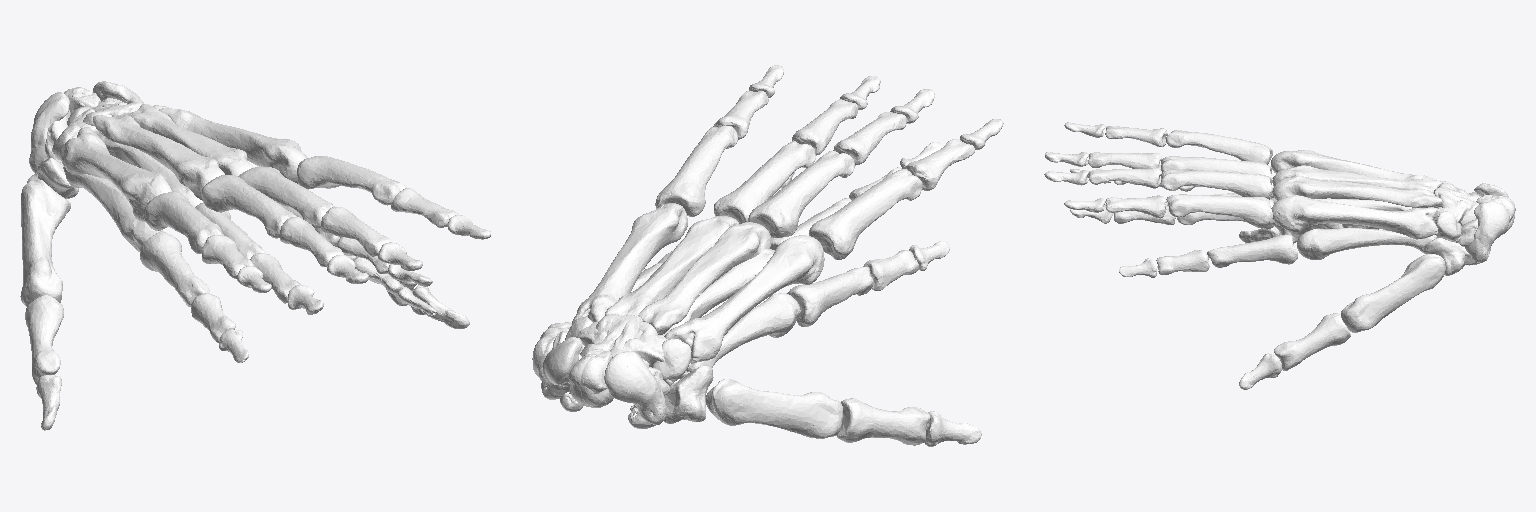
--- What the picture shows (computed from the rendered views, not written in the file) ---
Views: 3 orthographic renders of the robot side by side, from view 1: azimuth 30°, elevation 25°; view 2: azimuth 150°, elevation 25°; view 3: azimuth 270°, elevation 25°.
Model myohand_two_scaled with 87 links and 86 joints (46 revolute, 6 prismatic, 34 fixed), rooted at world, posed all joints at 0.
Visible links, largest first — view 1: firstmc_left, secondmc_left, thirdmc_left, secondmc, proxph2, proxph3_left, thirdmc, proxph2_left, proxph5, proximal_thumb_left, proxph3, fifthmc (+21 smaller); view 2: secondmc_left, firstmc_left, secondmc, thirdmc_left, proxph2_left, proxph3_left, thirdmc, proxph3, proxph2, proximal_thumb_left, scaphoid_left, fifthmc (+23 smaller); view 3: secondmc, firstmc, thirdmc, fifthmc_left, proxph2, proxph3, proximal_thumb, proxph5_left, secondmc_left, proxph2_left, thirdmc_left, scaphoid (+12 smaller).
Link boxes in pixels (bbox=[...]): firstmc_left: bbox=[20, 179, 70, 306]; secondmc_left: bbox=[60, 127, 171, 221]; thirdmc_left: bbox=[93, 115, 224, 200]; secondmc: bbox=[159, 108, 306, 183]; proxph2: bbox=[297, 156, 406, 205]; proxph3_left: bbox=[202, 175, 296, 238]; thirdmc: bbox=[128, 104, 253, 175]; proxph2_left: bbox=[143, 191, 223, 253]; proxph5: bbox=[140, 231, 209, 306]; proximal_thumb_left: bbox=[25, 295, 63, 384]; proxph3: bbox=[238, 166, 334, 228]; fifthmc: bbox=[63, 167, 163, 251]; secondmc_left: bbox=[664, 235, 824, 363]; firstmc_left: bbox=[706, 379, 842, 438]; secondmc: bbox=[572, 203, 687, 323]; thirdmc_left: bbox=[638, 222, 770, 334]; proxph2_left: bbox=[809, 169, 921, 259]; proxph3_left: bbox=[748, 151, 854, 237]; thirdmc: bbox=[605, 216, 739, 315]; proxph3: bbox=[714, 141, 815, 223]; proxph2: bbox=[655, 126, 737, 216]; proximal_thumb_left: bbox=[836, 398, 929, 445]; scaphoid_left: bbox=[604, 351, 665, 424]; fifthmc: bbox=[679, 293, 800, 378]; secondmc: bbox=[1271, 195, 1440, 239]; firstmc: bbox=[1341, 254, 1445, 332]; thirdmc: bbox=[1272, 176, 1441, 207]; fifthmc_left: bbox=[1297, 228, 1436, 259]; proxph2: bbox=[1166, 194, 1272, 227]; proxph3: bbox=[1161, 170, 1272, 199]; proximal_thumb: bbox=[1274, 313, 1350, 370]; proxph5_left: bbox=[1207, 234, 1297, 267]; secondmc_left: bbox=[1271, 150, 1434, 179]; proxph2_left: bbox=[1166, 130, 1272, 164]; thirdmc_left: bbox=[1272, 165, 1441, 193]; scaphoid: bbox=[1465, 201, 1509, 262].
Bounding box of the posed robot: 0.1487 × 0.1952 × 0.0707 m (x, y, z).
Meshes: 54 distinct files referenced, 54 mesh visuals loaded (54 binary STL).

The robot description file, URDF, robot "myohand_two_scaled":
<?xml version="1.0" ?>
<robot name="myohand_two_scaled">
   <link name="world" />

   <joint type="prismatic" name="translate_x_joint">
      <parent link="world" />
      <child link="joint_tx_link" />
      <origin xyz="0.0 0.0 0.0" rpy="0 0 0" />
      <axis xyz="1 0 0" />
      <limit effort="20.0" lower="-10.0" upper="10.0" velocity="5.0" />
   </joint>

   <joint type="prismatic" name="translate_y_joint">
      <parent link="joint_tx_link" />
      <child link="joint_ty_link" />
      <origin xyz="0.0 0.0 0.0" rpy="0 0 0" />
      <axis xyz="0 1 0" />
      <limit effort="20.0" lower="-10.0" upper="10.0" velocity="5.0" />
   </joint>

   <joint type="prismatic" name="translate_z_joint">
      <parent link="joint_ty_link" />
      <child link="joint_tz_link" />
      <origin xyz="0.0 0.0 0.0" rpy="0 0 0" />
      <axis xyz="0 0 1" />
      <limit effort="20.0" lower="-10.0" upper="10.0" velocity="5.0" />
   </joint>

   
   <joint type="revolute" name="rotate_x_joint">
      <parent link="joint_tz_link" />
      <child link="joint_rx_link" />
      <origin xyz="0.0 0.0 0.0" rpy="0 0 0" />
      <axis xyz="1 0 0" />
      <limit effort="100" lower="-3.141593" upper="3.141593" velocity="100" />
   </joint>

   <joint type="revolute" name="rotate_y_joint">
      <parent link="joint_rx_link" />
      <child link="joint_ry_link" />
      <origin xyz="0.0 0.0 0.0" rpy="0 0 0" />
      <axis xyz="0 1 0" />
      <limit effort="100" lower="-3.141593" upper="3.141593" velocity="100" />
   </joint>

   <joint type="revolute" name="rotate_z_joint">
      <parent link="joint_ry_link" />
      <child link="joint_rz_link" />
      <origin xyz="0.0 0.0 0.0" rpy="0 0 0" />
      <axis xyz="0 0 1" />
      <limit effort="100" lower="-3.141593" upper="3.141593" velocity="100" />
   </joint>

   <link name="joint_tx_link" />
   <link name="joint_ty_link" />
   <link name="joint_tz_link" />
   <link name="joint_rx_link" />
   <link name="joint_ry_link" />
   <link name="joint_rz_link" />

   <joint type="fixed" name="wrist_fixed">
      <parent link="joint_rz_link" />
      <child link="lunate" />
      <origin xyz="0.0 0.0 0.0" rpy="0 0 0" />
   </joint>
   <link name="lunate">
      <inertial>
         <origin xyz="0 0 0" rpy="0 0 0 " />
         <mass value="0.0012000263535597198" />
         <inertia ixx="0.0001" iyy="0.0001" izz="0.0001" ixy="0" ixz="0" iyz="0" />
      </inertial>
      <visual name="lunate">
         <origin xyz="0.0 0.0 0.0" rpy="0 0 0" />
         <geometry>
            <mesh filename="package://myohand_description/meshes/lunate.stl" scale="1.0912156403965485 1.0912156403965485 1.0912156403965485" />
         </geometry>
         <material name="white" />
      </visual>
   </link>
   <link name="scaphoid">
      <inertial>
         <origin xyz="0.0 0.0 0.0" rpy="0.0 0.0 0.0" />
         <mass value="0.02" />
         <inertia ixx="0.0001" iyy="0.0001" izz="0.0001" ixy="0" ixz="0" iyz="0" />
      </inertial>
      <visual name="scaphoid">
         <origin xyz="-2.6012832737077287e-05 -9.841030817061655e-06 4.18360878785008e-05" rpy="-0.5692290431693718 -0.33878345041747715 0.21369142489696064" />
         <geometry>
            <mesh filename="package://myohand_description/meshes/scaphoid.stl" scale="1.0912156403965485 1.0912156403965485 1.0912156403965485" />
         </geometry>
         <material name="white" />
      </visual>
   </link>
   <joint type="fixed" name="lunate2scaphoid_fixed">
      <parent link="lunate" />
      <child link="scaphoid" />
      <origin xyz="0.013471057080695391 -0.0048711866187301925 -0.0013683844130572718" rpy="0.0 0.0 0.0" />
   </joint>
   <link name="pisiform">
      <inertial>
         <origin xyz="0.0 0.0 0.0" rpy="0.0 0.0 0.0" />
         <mass value="0.02" />
         <inertia ixx="0.0001" iyy="0.0001" izz="0.0001" ixy="0" ixz="0" iyz="0" />
      </inertial>
      <visual name="pisiform">
         <origin xyz="0.0019402791022578886 -0.000990158516763607 -7.846043753356097e-05" rpy="1.2462055088005255 0.49559439583995424 -0.34929645069987836" />
         <geometry>
            <mesh filename="package://myohand_description/meshes/pisiform.stl" scale="1.0912156403965485 1.0912156403965485 1.0912156403965485" />
         </geometry>
         <material name="white" />
      </visual>
   </link>
   <joint type="fixed" name="lunate2pisiform_fixed">
      <parent link="lunate" />
      <child link="pisiform" />
      <origin xyz="-0.014609194993628992 -0.010787757820960281 -0.011559247278720639" rpy="0.0 0.0 0.0" />
   </joint>
   <link name="triquetrum">
      <inertial>
         <origin xyz="0.0 0.0 0.0" rpy="0.0 0.0 0.0" />
         <mass value="0.02" />
         <inertia ixx="0.0001" iyy="0.0001" izz="0.0001" ixy="0" ixz="0" iyz="0" />
      </inertial>
      <visual name="triquetrum">
         <origin xyz="6.471771705712068e-07 -1.2249553131735085e-06 -3.7030720965944225e-06" rpy="1.9269139677822995 -0.29745876180457564 -0.5516387254770375" />
         <geometry>
            <mesh filename="package://myohand_description/meshes/triquetrum.stl" scale="1.0912156403965485 1.0912156403965485 1.0912156403965485" />
         </geometry>
         <material name="white" />
      </visual>
   </link>
   <joint type="fixed" name="lunate2triquetrum_fixed">
      <parent link="lunate" />
      <child link="triquetrum" />
      <origin xyz="-0.011767669466036381 -0.008183026087333716 -0.001406576960471151" rpy="0.0 0.0 0.0" />
   </joint>
   <link name="capitate">
      <inertial>
         <origin xyz="2.4997529376086936e-06 -4.319736123192584e-06 1.3404175140860993e-06" rpy="1.2103081004613072 -0.2920747955988763 -0.020398215496376104" />
         <mass value="0.001912230829037991" />
         <inertia ixx="0.0001" iyy="0.0001" izz="0.0001" ixy="0" ixz="0" iyz="0" />
      </inertial>
      <visual name="capitate">
         <origin xyz="2.727769502645824e-06 -4.713763620013699e-06 1.4626845560322125e-06" rpy="1.2103081004613072 -0.29207479559887606 -0.020398215496375882" />
         <geometry>
            <mesh filename="package://myohand_description/meshes/capitate.stl" scale="1.0912156403965485 1.0912156403965485 1.0912156403965485" />
         </geometry>
         <material name="white" />
      </visual>
   </link>
   <joint type="fixed" name="lunate2capitate_fixed">
      <parent link="lunate" />
      <child link="capitate" />
      <origin xyz="0.004356132836463022 -0.016427160250529642 0.0025392587952027686" rpy="0.0 0.0 0.0" />
   </joint>
   <link name="trapezium">
      <inertial>
         <origin xyz="0.0 0.0 0.0" rpy="0.0 0.0 0.0" />
         <mass value="0.02" />
         <inertia ixx="0.0001" iyy="0.0001" izz="0.0001" ixy="0" ixz="0" iyz="0" />
      </inertial>
      <visual name="trapezium">
         <origin xyz="-6.197983312852977e-06 1.6671312300062698e-06 -8.008384923814561e-07" rpy="-0.25650854392346234 -0.8000548292338777 2.2561533548010577" />
         <geometry>
            <mesh filename="package://myohand_description/meshes/trapezium.stl" scale="1.0912156403965485 1.0912156403965485 1.0912156403965485" />
         </geometry>
         <material name="white" />
      </visual>
   </link>
   <joint type="fixed" name="capitate2trapezium_fixed">
      <parent link="capitate" />
      <child link="trapezium" />
      <origin xyz="0.016687960788584415 -0.00498576426097183 -0.01124825082120762" rpy="0.0 0.0 0.0" />
   </joint>
   <link name="firstmc">
      <inertial>
         <origin xyz="0.01309968089388166 -0.0068745282609964375 -0.009698928892781572" rpy="-2.1572247499833628 -0.31560297757072453 -1.7510692763715643" />
         <mass value="0.016" />
         <inertia ixx="0.0001" iyy="0.0001" izz="0.0001" ixy="0" ixz="0" iyz="0" />
      </inertial>
      <visual name="1mc">
         <origin xyz="0.015221742517602882 -0.007904877736212118 -0.009576319475505619" rpy="-2.237451597882739 -0.5181491466513541 -1.6277365169800728" />
         <geometry>
            <mesh filename="package://myohand_description/meshes/1mc.stl" scale="1.0912156403965485 1.0912156403965485 1.0912156403965485" />
         </geometry>
         <material name="white" />
      </visual>
   </link>
   <link name="cmc_abduction_dummy">
      <inertial>
         <origin xyz="0.0 0.0 0.0" rpy="-0.7286789533902661 0.04241170412851947 -0.01617642349516324" />
         <mass value="0.001" />
         <inertia ixx="1e-09" iyy="1e-09" izz="1e-09" ixy="0" ixz="0" iyz="0" />
      </inertial>
   </link>
   <joint type="revolute" name="cmc_abduction">
      <parent link="trapezium" />
      <child link="cmc_abduction_dummy" />
      <origin xyz="0.00785675261085515 -0.005892564458141363 -0.0027280391009913713" rpy="0.7286789533902661 -0.042411704128519245 -0.01617642349516324" />
      <axis xyz="0 0 1" />
      <limit lower="-0.5" upper="0.78" effort="100" velocity="100" />
   </joint>
   <joint type="revolute" name="cmc_flexion">
      <parent link="cmc_abduction_dummy" />
      <child link="firstmc" />
      <origin xyz="0.0 0.0 0.0" rpy="-1.7353556432102104 0.24272282231633158 -0.5745472836968706" />
      <axis xyz="0 0 1" />
      <limit lower="-0.78" upper="0.7" effort="100" velocity="100" />
   </joint>
   <link name="proximal_thumb">
      <inertial>
         <origin xyz="0.009175945436263407 -0.017323667062881923 -0.003637662002596822" rpy="2.193467119650854 0.33126827277613535 1.3835402268256396" />
         <mass value="0.0079" />
         <inertia ixx="0.0001" iyy="0.0001" izz="0.0001" ixy="0" ixz="0" iyz="0" />
      </inertial>
      <visual name="thumbprox">
         <origin xyz="0.008919062701548273 -0.01744202712274187 -0.0034244405719334064" rpy="1.751348942319772 -0.12389205032924067 0.43579123948592824" />
         <geometry>
            <mesh filename="package://myohand_description/meshes/thumbprox.stl" scale="1.0912156403965485 1.0912156403965485 1.0912156403965485" />
         </geometry>
         <material name="white" />
      </visual>
   </link>
   <joint type="revolute" name="mp_flexion">
      <parent link="firstmc" />
      <child link="proximal_thumb" />
      <origin xyz="0.029731572672082863 -0.01454820725477413 -0.020878316775212156" rpy="1.2527425101647096 -0.5549106329448805 -0.37755264808441874" />
      <axis xyz="0 0 1" />
      <limit lower="-0.785398" upper="0.698132" effort="100" velocity="100" />
   </joint>
   <link name="distal_thumb">
      <inertial>
         <origin xyz="0.00550527089824059 -0.011306835175704626 0.0008529188979227702" rpy="1.55414831514287 -0.6236827888860802 0.4187783633237224" />
         <mass value="0.003" />
         <inertia ixx="0.0001" iyy="0.0001" izz="0.0001" ixy="0" ixz="0" iyz="0" />
      </inertial>
      <visual name="thumbdist">
         <origin xyz="0.004542850788736533 -0.010651253216962928 0.0010582698770227133" rpy="1.522079931177215 -0.031788312575904865 0.4785542231651294" />
         <geometry>
            <mesh filename="package://myohand_description/meshes/thumbdist.stl" scale="1.0912156403965485 1.0912156403965485 1.0912156403965485" />
         </geometry>
         <material name="white" />
      </visual>
   </link>
   <joint type="revolute" name="ip_flexion">
      <parent link="proximal_thumb" />
      <child link="distal_thumb" />
      <origin xyz="0.014538435925150108 -0.030045423406755038 -0.006287316830942347" rpy="0.2947943417533358 0.032709979997034955 -0.01102290149135593" />
      <axis xyz="0 0 1" />
      <limit lower="-1.309" upper="0.436332" effort="100" velocity="100" />
   </joint>
   <link name="trapezoid">
      <inertial>
         <origin xyz="0.0 0.0 0.0" rpy="0.0 0.0 0.0" />
         <mass value="0.02" />
         <inertia ixx="0.0001" iyy="0.0001" izz="0.0001" ixy="0" ixz="0" iyz="0" />
      </inertial>
      <visual name="trapezoid">
         <origin xyz="1.4991943433975933e-06 -1.611784249149701e-06 2.063852284874042e-07" rpy="0.27598761251820697 0.5558008487263413 0.19209924739735612" />
         <geometry>
            <mesh filename="package://myohand_description/meshes/trapezoid.stl" scale="1.0912156403965485 1.0912156403965485 1.0912156403965485" />
         </geometry>
         <material name="white" />
      </visual>
   </link>
   <joint type="fixed" name="capitate2trapezoid_fixed">
      <parent link="capitate" />
      <child link="trapezoid" />
      <origin xyz="0.009976984600145643 -0.004432517931290779 -0.0026887553379370955" rpy="0.0 0.0 0.0" />
   </joint>
   <link name="hamate">
      <inertial>
         <origin xyz="0.0 0.0 0.0" rpy="0.0 0.0 0.0" />
         <mass value="0.02" />
         <inertia ixx="0.0001" iyy="0.0001" izz="0.0001" ixy="0" ixz="0" iyz="0" />
      </inertial>
      <visual name="hamate">
         <origin xyz="-1.253031262831586e-05 -1.4991055504267509e-06 1.659457460345214e-06" rpy="1.941141541594031 -0.4553846643318562 -0.6664160632978575" />
         <geometry>
            <mesh filename="package://myohand_description/meshes/hamate.stl" scale="1.0912156403965485 1.0912156403965485 1.0912156403965485" />
         </geometry>
         <material name="white" />
      </visual>
   </link>
   <joint type="fixed" name="capitate2hamate_fixed">
      <parent link="capitate" />
      <child link="hamate" />
      <origin xyz="-0.01196954435950974 -0.0027225830227893886 -0.0008184117302974114" rpy="0.0 0.0 0.0" />
   </joint>
   <link name="secondmc">
      <inertial>
         <origin xyz="0.0 0.0 0.0" rpy="0.0 0.0 0.0" />
         <mass value="0.02" />
         <inertia ixx="0.0001" iyy="0.0001" izz="0.0001" ixy="0" ixz="0" iyz="0" />
      </inertial>
      <visual name="2mc">
         <origin xyz="-0.00011438630272261074 0.00013791558509674163 -0.00015259020960722118" rpy="-1.2288611407496322 -1.0576482637579705 2.9957695490133696" />
         <geometry>
            <mesh filename="package://myohand_description/meshes/2mc.stl" scale="1.0912156403965485 1.0912156403965485 1.0912156403965485" />
         </geometry>
         <material name="white" />
      </visual>
   </link>
   <joint type="fixed" name="capitate2secondmc_fixed">
      <parent link="capitate" />
      <child link="secondmc" />
      <origin xyz="0.016024501679223313 -0.04105153239171816 0.005490997102475433" rpy="0.0 0.0 0.0" />
   </joint>
   <link name="proxph2">
      <inertial>
         <origin xyz="0.0 0.0 0.0" rpy="0.0861356540103359 0.05502674551362019 0.0023719461216022628" />
         <mass value="0.01" />
         <inertia ixx="0.0001" iyy="0.0001" izz="0.0001" ixy="0" ixz="0" iyz="0" />
      </inertial>
      <visual name="2proxph">
         <origin xyz="0.004880666929862633 -0.024799814125271602 0.0027061576790072322" rpy="1.3231070703266785 -1.2754347723112274 0.4086444603936795" />
         <geometry>
            <mesh filename="package://myohand_description/meshes/2proxph.stl" scale="1.0912156403965485 1.0912156403965485 1.0912156403965485" />
         </geometry>
         <material name="white" />
      </visual>
   </link>
   <link name="mcp2_flexion_dummy">
      <inertial>
         <origin xyz="0.0 0.0 0.0" rpy="1.570796326794898 -1.4708802086674053 -1.4708802086674067" />
         <mass value="0.001" />
         <inertia ixx="1e-09" iyy="1e-09" izz="1e-09" ixy="0" ixz="0" iyz="0" />
      </inertial>
   </link>
   <joint type="revolute" name="mcp2_flexion">
      <parent link="secondmc" />
      <child link="mcp2_flexion_dummy" />
      <origin xyz="0.0038203459570283166 -0.03081920333171972 0.003950200618235505" rpy="-1.5707963267948977 1.4708802086674053 -1.4708802086674064" />
      <axis xyz="0 0 1" />
      <limit lower="0.0" upper="1.5708" effort="100" velocity="100" />
   </joint>
   <joint type="revolute" name="mcp2_abduction">
      <parent link="mcp2_flexion_dummy" />
      <child link="proxph2" />
      <origin xyz="0.0 0.0 0.0" rpy="1.996706135703522 -1.4588445662369582 -1.9856122470713664" />
      <axis xyz="0 0 1" />
      <limit lower="-0.261799" upper="0.261799" effort="100" velocity="100" />
   </joint>
   <link name="midph2">
      <inertial>
         <origin xyz="0.0 0.0 0.0" rpy="2.673926789498819 -1.347488638214627 -2.561714096685443" />
         <mass value="0.003" />
         <inertia ixx="0.0001" iyy="0.0001" izz="0.0001" ixy="0" ixz="0" iyz="0" />
      </inertial>
      <visual name="2midph">
         <origin xyz="0.0010432335457114643 -0.014944528630233588 0.0002719845766183966" rpy="-1.5630400763369505 -0.0019507371444631438 -3.1305336815452" />
         <geometry>
            <mesh filename="package://myohand_description/meshes/2midph.stl" scale="1.0912156403965485 1.0912156403965485 1.0912156403965485" />
         </geometry>
         <material name="white" />
      </visual>
   </link>
   <joint type="revolute" name="pm2_flexion">
      <parent link="proxph2" />
      <child link="midph2" />
      <origin xyz="0.008515612588301575 -0.04553843896040008 0.0036331389517985863" rpy="-3.1093030719372434 1.3265450030648043 -2.985625911527994" />
      <axis xyz="0 0 1" />
      <limit lower="0.0" upper="1.5708" effort="100" velocity="100" />
   </joint>
   <link name="distph2">
      <inertial>
         <origin xyz="0.0 0.0 0.0" rpy="1.5707963267948983 -1.47079632685829 -1.4707963268582915" />
         <mass value="0.002" />
         <inertia ixx="0.0001" iyy="0.0001" izz="0.0001" ixy="0" ixz="0" iyz="0" />
      </inertial>
      <visual name="2distph">
         <origin xyz="0.0006079583664602333 -0.00932993497329737 0.00023430640444269327" rpy="-1.5239710771919284 -0.03676633885392766 -3.140805196244449" />
         <geometry>
            <mesh filename="package://myohand_description/meshes/2distph.stl" scale="1.0912156403965485 1.0912156403965485 1.0912156403965485" />
         </geometry>
         <material name="white" />
      </visual>
   </link>
   <joint type="revolute" name="md2_flexion">
      <parent link="midph2" />
      <child link="distph2" />
      <origin xyz="0.001323394321107002 -0.027395033344922114 0.0005722576625926559" rpy="0.0221383296958119 -0.1977786936551691 2.5098334244206405e-05" />
      <axis xyz="0 0 1" />
      <limit lower="0.0" upper="1.5708" effort="100" velocity="100" />
   </joint>
   <link name="thirdmc">
      <inertial>
         <origin xyz="0.0 0.0 0.0" rpy="0.0 0.0 0.0" />
         <mass value="0.02" />
         <inertia ixx="0.0001" iyy="0.0001" izz="0.0001" ixy="0" ixz="0" iyz="0" />
      </inertial>
      <visual name="3mc">
         <origin xyz="1.3339891705492994e-05 0.000564020706468723 -0.00026277609802395467" rpy="1.4450266262998412 0.1803584102818272 -0.007490416792627297" />
         <geometry>
            <mesh filename="package://myohand_description/meshes/3mc.stl" scale="1.0912156403965485 1.0912156403965485 1.0912156403965485" />
         </geometry>
         <material name="white" />
      </visual>
   </link>
   <joint type="fixed" name="capitate2thirdmc_fixed">
      <parent link="capitate" />
      <child link="thirdmc" />
      <origin xyz="0.0005205098604691537 -0.04281821051352017 0.00804989777920534" rpy="0.0 0.0 0.0" />
   </joint>
   <link name="proxph3">
      <inertial>
         <origin xyz="0.0 0.0 0.0" rpy="0.0 0.1999995919289601 0.0" />
         <mass value="0.01" />
         <inertia ixx="0.0001" iyy="0.0001" izz="0.0001" ixy="0" ixz="0" iyz="0" />
      </inertial>
      <visual name="3proxph">
         <origin xyz="0.002125789382810421 -0.025412660578323087 0.004590544777638503" rpy="1.1265372608123134 -1.2987544122063608 0.4693796480506728" />
         <geometry>
            <mesh filename="package://myohand_description/meshes/3proxph.stl" scale="1.0912156403965485 1.0912156403965485 1.0912156403965485" />
         </geometry>
         <material name="white" />
      </visual>
   </link>
   <link name="mcp3_flexion_dummy">
      <inertial>
         <origin xyz="0.0 0.0 0.0" rpy="0.0 -1.370796734865936 0.0" />
         <mass value="0.001" />
         <inertia ixx="1e-09" iyy="1e-09" izz="1e-09" ixy="0" ixz="0" iyz="0" />
      </inertial>
   </link>
   <joint type="revolute" name="mcp3_flexion">
      <parent link="thirdmc" />
      <child link="mcp3_flexion_dummy" />
      <origin xyz="0.00026189175369517164 -0.028688059186025263 0.0019401814086250635" rpy="0.0 1.370796734865936 0.0" />
      <axis xyz="0 0 1" />
      <limit lower="0.0" upper="1.5708" effort="100" velocity="100" />
   </joint>
   <joint type="revolute" name="mcp3_abduction">
      <parent link="mcp3_flexion_dummy" />
      <child link="proxph3" />
      <origin xyz="0.0 0.0 0.0" rpy="0.0 -1.570796326794896 0.0" />
      <axis xyz="0 0 1" />
      <limit lower="-0.261799" upper="0.261799" effort="100" velocity="100" />
   </joint>
   <link name="midph3">
      <inertial>
         <origin xyz="0.0 0.0 0.0" rpy="0.0 0.0 0.0" />
         <mass value="0.002" />
         <inertia ixx="0.0001" iyy="0.0001" izz="0.0001" ixy="0" ixz="0" iyz="0" />
      </inertial>
      <visual name="3midph">
         <origin xyz="0.0007437811749429613 -0.016232856613813035 0.001732507109740961" rpy="-0.7901456653983332 -1.4979259934357858 2.4117147631811826" />
         <geometry>
            <mesh filename="package://myohand_description/meshes/3midph.stl" scale="1.0912156403965485 1.0912156403965485 1.0912156403965485" />
         </geometry>
         <material name="white" />
      </visual>
   </link>
   <joint type="revolute" name="pm3_flexion">
      <parent link="proxph3" />
      <child link="midph3" />
      <origin xyz="0.0031152214262214124 -0.04824373467757181 0.0063050565727784105" rpy="0.0 0.1999995919289601 0.0" />
      <axis xyz="1.0 0.0 0.0" />
      <limit lower="0.0" upper="1.5708" effort="100" velocity="100" />
   </joint>
   <link name="distph3">
      <inertial>
         <origin xyz="0.0 0.0 0.0" rpy="0.0 0.0 0.0" />
         <mass value="0.002" />
         <inertia ixx="0.0001" iyy="0.0001" izz="0.0001" ixy="0" ixz="0" iyz="0" />
      </inertial>
      <visual name="3distph">
         <origin xyz="0.0006845750437656672 -0.009339593144242736 -3.5443808176891084e-05" rpy="0.4079397820603109 -1.4851549016387633 1.2108481043436288" />
         <geometry>
            <mesh filename="package://myohand_description/meshes/3distph.stl" scale="1.0912156403965485 1.0912156403965485 1.0912156403965485" />
         </geometry>
         <material name="white" />
      </visual>
   </link>
   <joint type="revolute" name="md3_flexion">
      <parent link="midph3" />
      <child link="distph3" />
      <origin xyz="0.0014895093491412886 -0.031696540706598546 0.002132235361334856" rpy="0.0 0.0 0.0" />
      <axis xyz="1.0 0.0 0.0" />
      <limit lower="0.0" upper="1.5708" effort="100" velocity="100" />
   </joint>
   <link name="fourthmc">
      <inertial>
         <origin xyz="0.0 0.0 0.0" rpy="0.0 0.0 0.0" />
         <mass value="0.02" />
         <inertia ixx="0.0001" iyy="0.0001" izz="0.0001" ixy="0" ixz="0" iyz="0" />
      </inertial>
      <visual name="4mc">
         <origin xyz="4.77966983845608e-05 0.0005804645102251883 -0.00018198006768264596" rpy="1.5268660941250807 -0.37727025049358964 -0.07031755099911208" />
         <geometry>
            <mesh filename="package://myohand_description/meshes/4mc.stl" scale="1.0912156403965485 1.0912156403965485 1.0912156403965485" />
         </geometry>
         <material name="white" />
      </visual>
   </link>
   <joint type="fixed" name="capitate2fourthmc_fixed">
      <parent link="capitate" />
      <child link="fourthmc" />
      <origin xyz="-0.013144783604216823 -0.04421496653322775 0.003833440544713075" rpy="0.0 0.0 0.0" />
   </joint>
   <link name="proxph4">
      <inertial>
         <origin xyz="0.0 0.0 0.0" rpy="0.0 0.4500004640280282 0.0" />
         <mass value="0.01" />
         <inertia ixx="0.0001" iyy="0.0001" izz="0.0001" ixy="0" ixz="0" iyz="0" />
      </inertial>
      <visual name="4proxph">
         <origin xyz="-0.0014540353567572928 -0.023561478528372735 0.0023162657504834793" rpy="0.6976319582938976 -1.4758909364414674 0.797666297432624" />
         <geometry>
            <mesh filename="package://myohand_description/meshes/4proxph.stl" scale="1.0912156403965485 1.0912156403965485 1.0912156403965485" />
         </geometry>
         <material name="white" />
      </visual>
   </link>
   <link name="mcp4_flexion_dummy">
      <inertial>
         <origin xyz="0.0 0.0 0.0" rpy="0.0 -1.120795862766868 0.0" />
         <mass value="0.001" />
         <inertia ixx="1e-09" iyy="1e-09" izz="1e-09" ixy="0" ixz="0" iyz="0" />
      </inertial>
   </link>
   <joint type="revolute" name="mcp4_flexion">
      <parent link="fourthmc" />
      <child link="mcp4_flexion_dummy" />
      <origin xyz="-0.001996924621925684 -0.02584980730535384 -0.0001887803057886029" rpy="0.0 1.1207958627668684 0.0" />
      <axis xyz="0 0 1" />
      <limit lower="0.0" upper="1.5708" effort="100" velocity="100" />
   </joint>
   <joint type="revolute" name="mcp4_abduction">
      <parent link="mcp4_flexion_dummy" />
      <child link="proxph4" />
      <origin xyz="0.0 0.0 0.0" rpy="0.0 -1.570796326794896 0.0" />
      <axis xyz="0 0 1" />
      <limit lower="-0.261799" upper="0.261799" effort="100" velocity="100" />
   </joint>
   <link name="midph4">
      <inertial>
         <origin xyz="0.0 0.0 0.0" rpy="0.0 -1.1707966444174693 0.0" />
         <mass value="0.003" />
         <inertia ixx="0.0001" iyy="0.0001" izz="0.0001" ixy="0" ixz="0" iyz="0" />
      </inertial>
      <visual name="4midph">
         <origin xyz="-0.0012854336845298268 -0.014311424955266322 -0.0013640544306725245" rpy="-1.624420311140701 -0.005298798978447428 3.0977891945924623" />
         <geometry>
            <mesh filename="package://myohand_description/meshes/4midph.stl" scale="1.0912156403965485 1.0912156403965485 1.0912156403965485" />
         </geometry>
         <material name="white" />
      </visual>
   </link>
   <joint type="revolute" name="pm4_flexion">
      <parent link="proxph4" />
      <child link="midph4" />
      <origin xyz="-0.0028281553639360434 -0.04392688560416306 0.0029961081823990368" rpy="3.141592653589793 1.5207955451442956 3.141592653589793" />
      <axis xyz="0 0 1" />
      <limit lower="0.0" upper="1.5708" effort="100" velocity="100" />
   </joint>
   <link name="distph4">
      <inertial>
         <origin xyz="0.0 0.0 0.0" rpy="0.0 -0.9707969349430002 0.0" />
         <mass value="0.002" />
         <inertia ixx="0.0001" iyy="0.0001" izz="0.0001" ixy="0" ixz="0" iyz="0" />
      </inertial>
      <visual name="4distph">
         <origin xyz="-0.001348534577264451 -0.009657786641601841 6.261121284750583e-05" rpy="-1.5832780312239776 -0.030396363417948713 2.965276549615234" />
         <geometry>
            <mesh filename="package://myohand_description/meshes/4distph.stl" scale="1.0912156403965485 1.0912156403965485 1.0912156403965485" />
         </geometry>
         <material name="white" />
      </visual>
   </link>
   <joint type="revolute" name="md4_flexion">
      <parent link="midph4" />
      <child link="distph4" />
      <origin xyz="-0.0015504417726234165 -0.02705014450979004 -0.002089521086574618" rpy="0.0 -0.199999709474469 0.0" />
      <axis xyz="0 0 1" />
      <limit lower="0.0" upper="1.5708" effort="100" velocity="100" />
   </joint>
   <link name="fifthmc">
      <inertial>
         <origin xyz="0.0 0.0 0.0" rpy="0.0 0.0 0.0" />
         <mass value="0.02" />
         <inertia ixx="0.0001" iyy="0.0001" izz="0.0001" ixy="0" ixz="0" iyz="0" />
      </inertial>
      <visual name="5mc">
         <origin xyz="0.0002124330500874568 0.00045668960348956657 -0.00014038383031514807" rpy="1.6537260233892077 -1.161764483067726 -0.20407074680325432" />
         <geometry>
            <mesh filename="package://myohand_description/meshes/5mc.stl" scale="1.0912156403965485 1.0912156403965485 1.0912156403965485" />
         </geometry>
         <material name="white" />
      </visual>
   </link>
   <joint type="fixed" name="capitate2fifthmc_fixed">
      <parent link="capitate" />
      <child link="fifthmc" />
      <origin xyz="-0.023893257662122826 -0.03784663205587349 -0.004602747571192643" rpy="0.0 0.0 0.0" />
   </joint>
   <link name="proxph5">
      <inertial>
         <origin xyz="0.0 0.0 0.0" rpy="0.0 0.5999993918518967 0.0" />
         <mass value="0.005" />
         <inertia ixx="0.0001" iyy="0.0001" izz="0.0001" ixy="0" ixz="0" iyz="0" />
      </inertial>
      <visual name="5proxph">
         <origin xyz="-0.003713049465303791 -0.02108392571969029 0.0009617048071497774" rpy="-1.4569822139036401 -1.381514906722609 2.885196567174457" />
         <geometry>
            <mesh filename="package://myohand_description/meshes/5proxph.stl" scale="1.0912156403965485 1.0912156403965485 1.0912156403965485" />
         </geometry>
         <material name="white" />
      </visual>
   </link>
   <link name="mcp5_flexion_dummy">
      <inertial>
         <origin xyz="0.0 0.0 0.0" rpy="0.0 -0.9707969349430002 0.0" />
         <mass value="0.001" />
         <inertia ixx="1e-09" iyy="1e-09" izz="1e-09" ixy="0" ixz="0" iyz="0" />
      </inertial>
   </link>
   <joint type="revolute" name="mcp5_flexion">
      <parent link="fifthmc" />
      <child link="mcp5_flexion_dummy" />
      <origin xyz="-0.001742671377713288 -0.02338584238933843 -0.0016324585980332365" rpy="0.0 0.9707969349430003 0.0" />
      <axis xyz="0 0 1" />
      <limit lower="0.0" upper="1.5708" effort="100" velocity="100" />
   </joint>
   <joint type="revolute" name="mcp5_abduction">
      <parent link="mcp5_flexion_dummy" />
      <child link="proxph5" />
      <origin xyz="0.0 0.0 0.0" rpy="0.0 -1.5707963267948963 0.0" />
      <axis xyz="0 0 1" />
      <limit lower="-0.261799" upper="0.261799" effort="100" velocity="100" />
   </joint>
   <link name="midph5">
      <inertial>
         <origin xyz="0.0 0.0 0.0" rpy="0.0 -0.9707969349430002 0.0" />
         <mass value="0.002" />
         <inertia ixx="0.0001" iyy="0.0001" izz="0.0001" ixy="0" ixz="0" iyz="0" />
      </inertial>
      <visual name="5midph">
         <origin xyz="0.00020976323052124832 -0.01284424640920926 -0.002279325925178836" rpy="-1.7327462170365329 0.14316308891352914 3.08764894477981" />
         <geometry>
            <mesh filename="package://myohand_description/meshes/5midph.stl" scale="1.0912156403965485 1.0912156403965485 1.0912156403965485" />
         </geometry>
         <material name="white" />
      </visual>
   </link>
   <joint type="revolute" name="pm5_flexion">
      <parent link="proxph5" />
      <child link="midph5" />
      <origin xyz="-0.006528255140883939 -0.03880690181942246 0.000659751969878673" rpy="-0.0 1.5707963267948966 0.0" />
      <axis xyz="0 0 1" />
      <limit lower="0.0" upper="1.5708" effort="100" velocity="100" />
   </joint>
   <link name="distph5">
      <inertial>
         <origin xyz="0.0 0.0 0.0" rpy="-0.3006875686285624 -0.6985554313998293 0.11023436132302193" />
         <mass value="0.001" />
         <inertia ixx="0.0001" iyy="0.0001" izz="0.0001" ixy="0" ixz="0" iyz="0" />
      </inertial>
      <visual name="5distph">
         <origin xyz="-0.0011069679115155672 -0.008597030397592666 0.00048825809364409523" rpy="-1.5131584280044281 -0.07399081576380362 2.9725845702930727" />
         <geometry>
            <mesh filename="package://myohand_description/meshes/5distph.stl" scale="1.0912156403965485 1.0912156403965485 1.0912156403965485" />
         </geometry>
         <material name="white" />
      </visual>
   </link>
   <joint type="revolute" name="md5_flexion">
      <parent link="midph5" />
      <child link="distph5" />
      <origin xyz="0.0002511339545131928 -0.022563065796479438 -0.003967694418063864" rpy="0.20638367854381953 -0.26826088009272797 0.08747994233519721" />
      <axis xyz="0 0 1" />
      <limit lower="0.0" upper="1.5708" effort="100" velocity="100" />
   </joint>
   <link name="THtip">
      <inertial>
         <origin xyz="0.0 0.0 0.0" rpy="0.0 0.0 0.0" />
         <mass value="0.001" />
         <inertia ixx="1e-09" iyy="1e-09" izz="1e-09" ixy="0" ixz="0" iyz="0" />
      </inertial>
   </link>
   <joint type="fixed" name="THtip_joint">
      <parent link="distal_thumb" />
      <child link="THtip" />
      <origin xyz="0.010739724593419129 -0.023474990670484867 0.002273107196620667" rpy="-0.500912540251172 0.05012299056598368 -0.012825373716091965" />
   </joint>
   <link name="IFtip">
      <inertial>
         <origin xyz="0.0 0.0 0.0" rpy="0.0 0.0 0.0" />
         <mass value="0.001" />
         <inertia ixx="1e-09" iyy="1e-09" izz="1e-09" ixy="0" ixz="0" iyz="0" />
      </inertial>
   </link>
   <joint type="fixed" name="IFtip_joint">
      <parent link="distph2" />
      <child link="IFtip" />
      <origin xyz="0.001972871390054612 -0.019662907650043963 0.00021061207384855205" rpy="1.5707963267948983 -1.47079632685829 -1.4707963268582915" />
   </joint>
   <link name="MFtip">
      <inertial>
         <origin xyz="0.0 0.0 0.0" rpy="0.0 0.0 0.0" />
         <mass value="0.001" />
         <inertia ixx="1e-09" iyy="1e-09" izz="1e-09" ixy="0" ixz="0" iyz="0" />
      </inertial>
   </link>
   <joint type="fixed" name="MFtip_joint">
      <parent link="distph3" />
      <child link="MFtip" />
      <origin xyz="0.002182431280793097 -0.02073309716753442 -0.0010912156403965485" rpy="0.0 0.0 0.0" />
   </joint>
   <link name="RFtip">
      <inertial>
         <origin xyz="0.0 0.0 0.0" rpy="0.0 0.0 0.0" />
         <mass value="0.001" />
         <inertia ixx="1e-09" iyy="1e-09" izz="1e-09" ixy="0" ixz="0" iyz="0" />
      </inertial>
   </link>
   <joint type="fixed" name="RFtip_joint">
      <parent link="distph4" />
      <child link="RFtip" />
      <origin xyz="-0.0015167656567649471 -0.019641881527137875 -0.0002844733557830997" rpy="0.0 -0.9707969349430002 0.0" />
   </joint>
   <link name="LFtip">
      <inertial>
         <origin xyz="0.0 0.0 0.0" rpy="0.0 0.0 0.0" />
         <mass value="0.001" />
         <inertia ixx="1e-09" iyy="1e-09" izz="1e-09" ixy="0" ixz="0" iyz="0" />
      </inertial>
   </link>
   <joint type="fixed" name="LFtip_joint">
      <parent link="distph5" />
      <child link="LFtip" />
      <origin xyz="-0.00028800192051640867 -0.018833932385459582 0.001111200420124305" rpy="-0.3006875686285624 -0.6985554313998293 0.11023436132302193" />
   </joint>
   <material name="white">
      <color rgba="1 1 1 1" />
   </material>

   <joint type="prismatic" name="translate_x_joint_left">
      <parent link="world" />
      <child link="joint_tx_link_left" />
      <origin xyz="0.0 0.0 0.0" rpy="0 0 0" />
      <axis xyz="1 0 0" />
      <limit effort="20.0" lower="-10.0" upper="10.0" velocity="5.0" />
   </joint>

   <joint type="prismatic" name="translate_y_joint_left">
      <parent link="joint_tx_link_left" />
      <child link="joint_ty_link_left" />
      <origin xyz="0.0 0.0 0.0" rpy="0 0 0" />
      <axis xyz="0 1 0" />
      <limit effort="20.0" lower="-10.0" upper="10.0" velocity="5.0" />
   </joint>

   <joint type="prismatic" name="translate_z_joint_left">
      <parent link="joint_ty_link_left" />
      <child link="joint_tz_link_left" />
      <origin xyz="0.0 0.0 0.0" rpy="0 0 0" />
      <axis xyz="0 0 1" />
      <limit effort="20.0" lower="-10.0" upper="10.0" velocity="5.0" />
   </joint>

   
   <joint type="revolute" name="rotate_x_joint_left">
      <parent link="joint_tz_link_left" />
      <child link="joint_rx_link_left" />
      <origin xyz="0.0 0.0 0.0" rpy="0 0 0" />
      <axis xyz="1 0 0" />
      <limit effort="100" lower="-3.141593" upper="3.141593" velocity="100" />
   </joint>

   <joint type="revolute" name="rotate_y_joint_left">
      <parent link="joint_rx_link_left" />
      <child link="joint_ry_link_left" />
      <origin xyz="0.0 0.0 0.0" rpy="0 0 0" />
      <axis xyz="0 1 0" />
      <limit effort="100" lower="-3.141593" upper="3.141593" velocity="100" />
   </joint>

   <joint type="revolute" name="rotate_z_joint_left">
      <parent link="joint_ry_link_left" />
      <child link="joint_rz_link_left" />
      <origin xyz="0.0 0.0 0.0" rpy="0 0 0" />
      <axis xyz="0 0 1" />
      <limit effort="100" lower="-3.141593" upper="3.141593" velocity="100" />
   </joint>

   
   <link name="joint_tx_link_left" />
   <link name="joint_ty_link_left" />
   <link name="joint_tz_link_left" />
   <link name="joint_rx_link_left" />
   <link name="joint_ry_link_left" />
   <link name="joint_rz_link_left" />

   <joint type="fixed" name="wrist_fixed_left">
      <parent link="joint_rz_link_left" />
      <child link="lunate_left" />
      <origin xyz="0.0 0.0 0.0" rpy="0.0 0.0 0.0" />
   </joint>
   <link name="lunate_left">
      <inertial>
         <origin xyz="0.0 0.0 0.0" rpy="0.0 0.0 0.0" />
         <mass value="0.0012000263535597198" />
         <inertia ixx="0.0001" iyy="0.0001" izz="0.0001" ixy="0" ixz="0" iyz="0" />
      </inertial>
      <visual name="lunate_left">
         <origin xyz="0.0 0.0 0.0" rpy="0.0 0.0 0.0" />
         <geometry>
            <mesh filename="package://myohand_description/meshes/lunate_left.stl" scale="1.0912156403965485 1.0912156403965485 1.0912156403965485" />
         </geometry>
         <material name="white" />
      </visual>
   </link>
   <link name="scaphoid_left">
      <inertial>
         <origin xyz="0.0 0.0 0.0" rpy="0.0 0.0 0.0" />
         <mass value="0.02" />
         <inertia ixx="0.0001" iyy="0.0001" izz="0.0001" ixy="0" ixz="0" iyz="0" />
      </inertial>
      <visual name="scaphoid_left">
         <origin xyz="2.6012832737081288e-05 -9.841030817061267e-06 4.183608787850105e-05" rpy="-0.5692290431693717 0.33878345041747737 -0.2136914248969607" />
         <geometry>
            <mesh filename="package://myohand_description/meshes/scaphoid_left.stl" scale="1.0912156403965485 1.0912156403965485 1.0912156403965485" />
         </geometry>
         <material name="white" />
      </visual>
   </link>
   <joint type="fixed" name="lunate2scaphoid_fixed_left">
      <parent link="lunate_left" />
      <child link="scaphoid_left" />
      <origin xyz="-0.013471057080695391 -0.0048711866187301925 -0.0013683844130572718" rpy="0.0 0.0 0.0" />
   </joint>
   <link name="pisiform_left">
      <inertial>
         <origin xyz="0.0 0.0 0.0" rpy="0.0 0.0 0.0" />
         <mass value="0.02" />
         <inertia ixx="0.0001" iyy="0.0001" izz="0.0001" ixy="0" ixz="0" iyz="0" />
      </inertial>
      <visual name="pisiform_left">
         <origin xyz="-0.0019402791022578886 -0.000990158516763607 -7.84604375335625e-05" rpy="1.2462055088005255 -0.49559439583995424 0.3492964506998784" />
         <geometry>
            <mesh filename="package://myohand_description/meshes/pisiform_left.stl" scale="1.0912156403965485 1.0912156403965485 1.0912156403965485" />
         </geometry>
         <material name="white" />
      </visual>
   </link>
   <joint type="fixed" name="lunate2pisiform_fixed_left">
      <parent link="lunate_left" />
      <child link="pisiform_left" />
      <origin xyz="0.014609194993628992 -0.010787757820960281 -0.011559247278720639" rpy="0.0 0.0 0.0" />
   </joint>
   <link name="triquetrum_left">
      <inertial>
         <origin xyz="0.0 0.0 0.0" rpy="0.0 0.0 0.0" />
         <mass value="0.02" />
         <inertia ixx="0.0001" iyy="0.0001" izz="0.0001" ixy="0" ixz="0" iyz="0" />
      </inertial>
      <visual name="triquetrum_left">
         <origin xyz="-6.471771705709832e-07 -1.2249553131738964e-06 -3.703072096594186e-06" rpy="1.9269139677822995 0.29745876180457564 0.5516387254770375" />
         <geometry>
            <mesh filename="package://myohand_description/meshes/triquetrum_left.stl" scale="1.0912156403965485 1.0912156403965485 1.0912156403965485" />
         </geometry>
         <material name="white" />
      </visual>
   </link>
   <joint type="fixed" name="lunate2triquetrum_fixed_left">
      <parent link="lunate_left" />
      <child link="triquetrum_left" />
      <origin xyz="0.011767669466036381 -0.008183026087333716 -0.001406576960471151" rpy="0.0 0.0 0.0" />
   </joint>
   <link name="capitate_left">
      <inertial>
         <origin xyz="-2.499752937609387e-06 -4.319736123192808e-06 1.3404175140865199e-06" rpy="1.2103081004613072 0.2920747955988765 0.020398215496376215" />
         <mass value="0.001912230829037991" />
         <inertia ixx="0.0001" iyy="0.0001" izz="0.0001" ixy="0" ixz="0" iyz="0" />
      </inertial>
      <visual name="capitate_left">
         <origin xyz="-2.7277695026464366e-06 -4.713763620015511e-06 1.4626845560325107e-06" rpy="1.2103081004613072 0.29207479559887606 0.02039821549637577" />
         <geometry>
            <mesh filename="package://myohand_description/meshes/capitate_left.stl" scale="1.0912156403965485 1.0912156403965485 1.0912156403965485" />
         </geometry>
         <material name="white" />
      </visual>
   </link>
   <joint type="fixed" name="lunate2capitate_fixed_left">
      <parent link="lunate_left" />
      <child link="capitate_left" />
      <origin xyz="-0.004356132836463022 -0.016427160250529642 0.0025392587952027686" rpy="0.0 0.0 0.0" />
   </joint>
   <link name="trapezium_left">
      <inertial>
         <origin xyz="0.0 0.0 0.0" rpy="0.0 0.0 0.0" />
         <mass value="0.02" />
         <inertia ixx="0.0001" iyy="0.0001" izz="0.0001" ixy="0" ixz="0" iyz="0" />
      </inertial>
      <visual name="trapezium_left">
         <origin xyz="6.197983312853165e-06 1.6671312300058431e-06 -8.008384923818835e-07" rpy="-0.25650854392346245 0.8000548292338778 -2.2561533548010573" />
         <geometry>
            <mesh filename="package://myohand_description/meshes/trapezium_left.stl" scale="1.0912156403965485 1.0912156403965485 1.0912156403965485" />
         </geometry>
         <material name="white" />
      </visual>
   </link>
   <joint type="fixed" name="capitate2trapezium_fixed_left">
      <parent link="capitate_left" />
      <child link="trapezium_left" />
      <origin xyz="-0.016687960788584415 -0.004985764260971832 -0.01124825082120762" rpy="0.0 0.0 0.0" />
   </joint>
   <link name="firstmc_left">
      <inertial>
         <origin xyz="-0.013099680893881645 -0.006874528260996441 -0.009698928892781549" rpy="-2.1572247499833637 0.315602977570725 1.7510692763715636" />
         <mass value="0.016" />
         <inertia ixx="0.0001" iyy="0.0001" izz="0.0001" ixy="0" ixz="0" iyz="0" />
      </inertial>
      <visual name="1mc_left">
         <origin xyz="-0.01522174251760287 -0.007904877736212115 -0.009576319475505619" rpy="-2.237451597882739 0.5181491466513539 1.6277365169800726" />
         <geometry>
            <mesh filename="package://myohand_description/meshes/1mc_left.stl" scale="1.0912156403965485 1.0912156403965485 1.0912156403965485" />
         </geometry>
         <material name="white" />
      </visual>
   </link>
   <link name="cmc_abduction_dummy_left">
      <inertial>
         <origin xyz="-1.734723475976807e-17 -1.0408340855860843e-17 -8.673617379884035e-19" rpy="-0.7286789533902662 -0.04241170412851947 0.01617642349516335" />
         <mass value="0.001" />
         <inertia ixx="1e-09" iyy="1e-09" izz="1e-09" ixy="0" ixz="0" iyz="0" />
      </inertial>
   </link>
   <joint type="revolute" name="cmc_abduction_left">
      <parent link="trapezium_left" />
      <child link="cmc_abduction_dummy_left" />
      <origin xyz="-0.007856752610855151 -0.005892564458141364 -0.0027280391009913696" rpy="0.7286789533902661 0.04241170412851947 0.01617642349516324" />
      <axis xyz="1.747988441681546e-18 -1.0772761261336016e-16 -1.0" />
      <limit lower="-0.5" upper="0.78" effort="100" velocity="100" />
   </joint>
   <joint type="revolute" name="cmc_flexion_left">
      <parent link="cmc_abduction_dummy_left" />
      <child link="firstmc_left" />
      <origin xyz="-6.5919492087118674e-18 -6.5919492087118674e-18 1.1535911115245768e-17" rpy="-1.7353556432102097 -0.24272282231633158 0.5745472836968706" />
      <axis xyz="-2.8391311673900116e-17 -5.045193471461809e-17 -1.0000000000000002" />
      <limit lower="-0.78" upper="0.7" effort="100" velocity="100" />
   </joint>
   <link name="proximal_thumb_left">
      <inertial>
         <origin xyz="-0.009175945436263391 -0.017323667062881902 -0.0036376620025967907" rpy="2.1934671196508537 -0.3312682727761356 -1.3835402268256396" />
         <mass value="0.0079" />
         <inertia ixx="0.0001" iyy="0.0001" izz="0.0001" ixy="0" ixz="0" iyz="0" />
      </inertial>
      <visual name="thumbprox_left">
         <origin xyz="-0.008919062701548273 -0.01744202712274182 -0.0034244405719334116" rpy="1.7513489423197717 0.12389205032924067 -0.43579123948592813" />
         <geometry>
            <mesh filename="package://myohand_description/meshes/thumbprox_left.stl" scale="1.0912156403965485 1.0912156403965485 1.0912156403965485" />
         </geometry>
         <material name="white" />
      </visual>
   </link>
   <joint type="revolute" name="mp_flexion_left">
      <parent link="firstmc_left" />
      <child link="proximal_thumb_left" />
      <origin xyz="-0.029731572672082877 -0.014548207254774124 -0.020878316775212152" rpy="1.252742510164709 0.5549106329448805 0.3775526480844189" />
      <axis xyz="-7.360873981229693e-17 -1.0205699454745994e-16 -1.0000000000000002" />
      <limit lower="-0.785398" upper="0.698132" effort="100" velocity="100" />
   </joint>
   <link name="distal_thumb_left">
      <inertial>
         <origin xyz="-0.005505270898240551 -0.01130683517570466 0.0008529188979227928" rpy="1.5541483151428697 0.6236827888860805 -0.41877836332372254" />
         <mass value="0.003" />
         <inertia ixx="0.0001" iyy="0.0001" izz="0.0001" ixy="0" ixz="0" iyz="0" />
      </inertial>
      <visual name="thumbdist_left">
         <origin xyz="-0.004542850788736518 -0.010651253216962883 0.0010582698770227829" rpy="1.5220799311772146 0.03178831257590442 -0.4785542231651295" />
         <geometry>
            <mesh filename="package://myohand_description/meshes/thumbdist_left.stl" scale="1.0912156403965485 1.0912156403965485 1.0912156403965485" />
         </geometry>
         <material name="white" />
      </visual>
   </link>
   <joint type="revolute" name="ip_flexion_left">
      <parent link="proximal_thumb_left" />
      <child link="distal_thumb_left" />
      <origin xyz="-0.014538435925150134 -0.03004542340675508 -0.006287316830942379" rpy="0.29479434175333596 -0.03270997999703473 0.011022901491355958" />
      <axis xyz="-1.923774407218676e-17 -2.7135002682840594e-16 -1.0000000000000009" />
      <limit lower="-1.309" upper="0.436332" effort="100" velocity="100" />
   </joint>
   <link name="trapezoid_left">
      <inertial>
         <origin xyz="0.0 0.0 0.0" rpy="0.0 0.0 0.0" />
         <mass value="0.02" />
         <inertia ixx="0.0001" iyy="0.0001" izz="0.0001" ixy="0" ixz="0" iyz="0" />
      </inertial>
      <visual name="trapezoid_left">
         <origin xyz="-1.4991943433973096e-06 -1.611784249150837e-06 2.0638522848694803e-07" rpy="0.27598761251820686 -0.5558008487263413 -0.19209924739735607" />
         <geometry>
            <mesh filename="package://myohand_description/meshes/trapezoid_left.stl" scale="1.0912156403965485 1.0912156403965485 1.0912156403965485" />
         </geometry>
         <material name="white" />
      </visual>
   </link>
   <joint type="fixed" name="capitate2trapezoid_fixed_left">
      <parent link="capitate_left" />
      <child link="trapezoid_left" />
      <origin xyz="-0.009976984600145643 -0.004432517931290781 -0.0026887553379370955" rpy="0.0 0.0 0.0" />
   </joint>
   <link name="hamate_left">
      <inertial>
         <origin xyz="0.0 0.0 0.0" rpy="0.0 0.0 0.0" />
         <mass value="0.02" />
         <inertia ixx="0.0001" iyy="0.0001" izz="0.0001" ixy="0" ixz="0" iyz="0" />
      </inertial>
      <visual name="hamate_left">
         <origin xyz="1.2530312628318597e-05 -1.4991055504421594e-06 1.6594574603566102e-06" rpy="1.9411415415940314 0.45538466433185576 0.6664160632978575" />
         <geometry>
            <mesh filename="package://myohand_description/meshes/hamate_left.stl" scale="1.0912156403965485 1.0912156403965485 1.0912156403965485" />
         </geometry>
         <material name="white" />
      </visual>
   </link>
   <joint type="fixed" name="capitate2hamate_fixed_left">
      <parent link="capitate_left" />
      <child link="hamate_left" />
      <origin xyz="0.011969544359509742 -0.0027225830227893878 -0.0008184117302974113" rpy="0.0 0.0 0.0" />
   </joint>
   <link name="secondmc_left">
      <inertial>
         <origin xyz="0.0 0.0 0.0" rpy="0.0 0.0 0.0" />
         <mass value="0.02" />
         <inertia ixx="0.0001" iyy="0.0001" izz="0.0001" ixy="0" ixz="0" iyz="0" />
      </inertial>
      <visual name="2mc_left">
         <origin xyz="0.00011438630272261157 0.00013791558509674198 -0.00015259020960722188" rpy="-1.228861140749632 1.0576482637579705 -2.995769549013369" />
         <geometry>
            <mesh filename="package://myohand_description/meshes/2mc_left.stl" scale="1.0912156403965485 1.0912156403965485 1.0912156403965485" />
         </geometry>
         <material name="white" />
      </visual>
   </link>
   <joint type="fixed" name="capitate2secondmc_fixed_left">
      <parent link="capitate_left" />
      <child link="secondmc_left" />
      <origin xyz="-0.016024501679223313 -0.04105153239171816 0.005490997102475434" rpy="0.0 0.0 0.0" />
   </joint>
   <link name="proxph2_left">
      <inertial>
         <origin xyz="-1.734723475976807e-18 0.0 4.336808689942018e-19" rpy="0.0861356540103359 -0.05502674551362019 -0.002371946121602242" />
         <mass value="0.01" />
         <inertia ixx="0.0001" iyy="0.0001" izz="0.0001" ixy="0" ixz="0" iyz="0" />
      </inertial>
      <visual name="2proxph_left">
         <origin xyz="-0.004880666929862634 -0.02479981412527163 0.0027061576790072643" rpy="1.32310707032668 1.2754347723112271 -0.40864446039367786" />
         <geometry>
            <mesh filename="package://myohand_description/meshes/2proxph_left.stl" scale="1.0912156403965485 1.0912156403965485 1.0912156403965485" />
         </geometry>
         <material name="white" />
      </visual>
   </link>
   <link name="mcp2_flexion_dummy_left">
      <inertial>
         <origin xyz="3.469446951953614e-18 2.7755575615628914e-17 3.469446951953614e-18" rpy="1.5707963267948961 1.4708802086674053 1.4708802086674049" />
         <mass value="0.001" />
         <inertia ixx="1e-09" iyy="1e-09" izz="1e-09" ixy="0" ixz="0" iyz="0" />
      </inertial>
   </link>
   <joint type="revolute" name="mcp2_flexion_left">
      <parent link="secondmc_left" />
      <child link="mcp2_flexion_dummy_left" />
      <origin xyz="-0.0038203459570283166 -0.03081920333171972 0.003950200618235505" rpy="-1.5707963267948977 -1.4708802086674053 1.4708802086674064" />
      <axis xyz="-5.2438525824824176e-20 7.039945989835385e-18 -1.0" />
      <limit lower="0.0" upper="1.5708" effort="100" velocity="100" />
   </joint>
   <joint type="revolute" name="mcp2_abduction_left">
      <parent link="mcp2_flexion_dummy_left" />
      <child link="proxph2_left" />
      <origin xyz="6.5919492087118674e-18 2.636779683484747e-17 4.9439619065339e-18" rpy="1.996706135703523 1.4588445662369582 1.9856122470713673" />
      <axis xyz="-2.8382323702885056e-16 2.4019512150402412e-17 -0.9999999999999999" />
      <limit lower="-0.261799" upper="0.261799" effort="100" velocity="100" />
   </joint>
   <link name="midph2_left">
      <inertial>
         <origin xyz="-6.938893903907228e-18 -8.326672684688674e-17 -3.642919299551295e-17" rpy="2.6739267894988212 1.3474886382146267 2.5617140966854453" />
         <mass value="0.003" />
         <inertia ixx="0.0001" iyy="0.0001" izz="0.0001" ixy="0" ixz="0" iyz="0" />
      </inertial>
      <visual name="2midph_left">
         <origin xyz="-0.001043233545711517 -0.014944528630233623 0.00027198457661847255" rpy="-1.5630400763369499 0.0019507371444629218 3.1305336815451996" />
         <geometry>
            <mesh filename="package://myohand_description/meshes/2midph_left.stl" scale="1.0912156403965485 1.0912156403965485 1.0912156403965485" />
         </geometry>
         <material name="white" />
      </visual>
   </link>
   <joint type="revolute" name="pm2_flexion_left">
      <parent link="proxph2_left" />
      <child link="midph2_left" />
      <origin xyz="-0.00851561258830159 -0.04553843896040004 0.0036331389517985885" rpy="-3.1093030719372425 -1.326545003064804 2.985625911527994" />
      <axis xyz="-6.004321121326396e-16 -1.7684176337434925e-16 -0.9999999999999996" />
      <limit lower="0.0" upper="1.5708" effort="100" velocity="100" />
   </joint>
   <link name="distph2_left">
      <inertial>
         <origin xyz="-1.3877787807814457e-17 2.7755575615628914e-17 0.0" rpy="1.5707963267948983 1.4707963268582902 1.4707963268582915" />
         <mass value="0.002" />
         <inertia ixx="0.0001" iyy="0.0001" izz="0.0001" ixy="0" ixz="0" iyz="0" />
      </inertial>
      <visual name="2distph_left">
         <origin xyz="-0.0006079583664602546 -0.009329934973297337 0.00023430640444268154" rpy="-1.5239710771919284 0.03676633885392744 3.140805196244449" />
         <geometry>
            <mesh filename="package://myohand_description/meshes/2distph_left.stl" scale="1.0912156403965485 1.0912156403965485 1.0912156403965485" />
         </geometry>
         <material name="white" />
      </visual>
   </link>
   <joint type="revolute" name="md2_flexion_left">
      <parent link="midph2_left" />
      <child link="distph2_left" />
      <origin xyz="-0.001323394321106983 -0.027395033344922184 0.0005722576625926627" rpy="0.022138329695812073 0.19777869365516998 -2.5098334244374673e-05" />
      <axis xyz="-2.4455606779405633e-18 -4.090344666757575e-17 -0.9999999999999998" />
      <limit lower="0.0" upper="1.5708" effort="100" velocity="100" />
   </joint>
   <link name="thirdmc_left">
      <inertial>
         <origin xyz="0.0 0.0 0.0" rpy="0.0 0.0 0.0" />
         <mass value="0.02" />
         <inertia ixx="0.0001" iyy="0.0001" izz="0.0001" ixy="0" ixz="0" iyz="0" />
      </inertial>
      <visual name="3mc_left">
         <origin xyz="-1.3339891705493402e-05 0.0005640207064687221 -0.00026277609802395526" rpy="1.4450266262998412 -0.18035841028182698 0.007490416792627297" />
         <geometry>
            <mesh filename="package://myohand_description/meshes/3mc_left.stl" scale="1.0912156403965485 1.0912156403965485 1.0912156403965485" />
         </geometry>
         <material name="white" />
      </visual>
   </link>
   <joint type="fixed" name="capitate2thirdmc_fixed_left">
      <parent link="capitate_left" />
      <child link="thirdmc_left" />
      <origin xyz="-0.0005205098604691534 -0.04281821051352017 0.00804989777920534" rpy="0.0 0.0 0.0" />
   </joint>
   <link name="proxph3_left">
      <inertial>
         <origin xyz="0.0 1.3877787807814457e-17 -1.734723475976807e-18" rpy="0.0 -0.19999959192895989 0.0" />
         <mass value="0.01" />
         <inertia ixx="0.0001" iyy="0.0001" izz="0.0001" ixy="0" ixz="0" iyz="0" />
      </inertial>
      <visual name="3proxph_left">
         <origin xyz="-0.002125789382810408 -0.0254126605783231 0.004590544777638536" rpy="1.1265372608123134 1.2987544122063608 -0.46937964805067295" />
         <geometry>
            <mesh filename="package://myohand_description/meshes/3proxph_left.stl" scale="1.0912156403965485 1.0912156403965485 1.0912156403965485" />
         </geometry>
         <material name="white" />
      </visual>
   </link>
   <link name="mcp3_flexion_dummy_left">
      <inertial>
         <origin xyz="4.336808689942018e-19 0.0 0.0" rpy="0.0 1.370796734865936 0.0" />
         <mass value="0.001" />
         <inertia ixx="1e-09" iyy="1e-09" izz="1e-09" ixy="0" ixz="0" iyz="0" />
      </inertial>
   </link>
   <joint type="revolute" name="mcp3_flexion_left">
      <parent link="thirdmc_left" />
      <child link="mcp3_flexion_dummy_left" />
      <origin xyz="-0.00026189175369517115 -0.028688059186025267 0.0019401814086250635" rpy="0.0 -1.370796734865936 0.0" />
      <axis xyz="1.842288986358278e-17 0.0 -1.0" />
      <limit lower="0.0" upper="1.5708" effort="100" velocity="100" />
   </joint>
   <joint type="revolute" name="mcp3_abduction_left">
      <parent link="mcp3_flexion_dummy_left" />
      <child link="proxph3_left" />
      <origin xyz="3.0899761915836877e-19 -1.3183898417423735e-17 0.0" rpy="-0.0 1.5707963267948961 0.0" />
      <axis xyz="-4.59135596783022e-18 0.0 -1.0" />
      <limit lower="-0.261799" upper="0.261799" effort="100" velocity="100" />
   </joint>
   <link name="midph3_left">
      <inertial>
         <origin xyz="0.0 0.0 0.0" rpy="0.0 0.0 0.0" />
         <mass value="0.002" />
         <inertia ixx="0.0001" iyy="0.0001" izz="0.0001" ixy="0" ixz="0" iyz="0" />
      </inertial>
      <visual name="3midph_left">
         <origin xyz="-0.0007437811749429299 -0.016232856613813084 0.0017325071097409096" rpy="-0.7901456653983319 1.4979259934357856 -2.4117147631811813" />
         <geometry>
            <mesh filename="package://myohand_description/meshes/3midph_left.stl" scale="1.0912156403965485 1.0912156403965485 1.0912156403965485" />
         </geometry>
         <material name="white" />
      </visual>
   </link>
   <joint type="revolute" name="pm3_flexion_left">
      <parent link="proxph3_left" />
      <child link="midph3_left" />
      <origin xyz="-0.003115221426221413 -0.0482437346775718 0.0063050565727784105" rpy="0.0 -0.19999959192895989 0.0" />
      <axis xyz="0.9999999999999999 0.0 -1.1075375161486551e-18" />
      <limit lower="0.0" upper="1.5708" effort="100" velocity="100" />
   </joint>
   <link name="distph3_left">
      <inertial>
         <origin xyz="0.0 0.0 0.0" rpy="0.0 0.0 0.0" />
         <mass value="0.002" />
         <inertia ixx="0.0001" iyy="0.0001" izz="0.0001" ixy="0" ixz="0" iyz="0" />
      </inertial>
      <visual name="3distph_left">
         <origin xyz="-0.0006845750437656936 -0.009339593144242661 -3.544380817686573e-05" rpy="0.4079397820603101 1.4851549016387628 -1.2108481043436292" />
         <geometry>
            <mesh filename="package://myohand_description/meshes/3distph_left.stl" scale="1.0912156403965485 1.0912156403965485 1.0912156403965485" />
         </geometry>
         <material name="white" />
      </visual>
   </link>
   <joint type="revolute" name="md3_flexion_left">
      <parent link="midph3_left" />
      <child link="distph3_left" />
      <origin xyz="-0.0014895093491412892 -0.03169654070659855 0.002132235361334855" rpy="0.0 0.0 0.0" />
      <axis xyz="0.9999999999999999 0.0 -1.1075375161486551e-18" />
      <limit lower="0.0" upper="1.5708" effort="100" velocity="100" />
   </joint>
   <link name="fourthmc_left">
      <inertial>
         <origin xyz="0.0 0.0 0.0" rpy="0.0 0.0 0.0" />
         <mass value="0.02" />
         <inertia ixx="0.0001" iyy="0.0001" izz="0.0001" ixy="0" ixz="0" iyz="0" />
      </inertial>
      <visual name="4mc_left">
         <origin xyz="-4.7796698384546585e-05 0.0005804645102251922 -0.00018198006768264073" rpy="1.5268660941250807 0.3772702504935901 0.07031755099911197" />
         <geometry>
            <mesh filename="package://myohand_description/meshes/4mc_left.stl" scale="1.0912156403965485 1.0912156403965485 1.0912156403965485" />
         </geometry>
         <material name="white" />
      </visual>
   </link>
   <joint type="fixed" name="capitate2fourthmc_fixed_left">
      <parent link="capitate_left" />
      <child link="fourthmc_left" />
      <origin xyz="0.013144783604216823 -0.044214966533227755 0.003833440544713075" rpy="0.0 0.0 0.0" />
   </joint>
   <link name="proxph4_left">
      <inertial>
         <origin xyz="-1.734723475976807e-18 1.3877787807814457e-17 -2.6020852139652106e-18" rpy="0.0 -0.4500004640280284 0.0" />
         <mass value="0.01" />
         <inertia ixx="0.0001" iyy="0.0001" izz="0.0001" ixy="0" ixz="0" iyz="0" />
      </inertial>
      <visual name="4proxph_left">
         <origin xyz="0.001454035356757294 -0.0235614785283727 0.0023162657504834923" rpy="0.6976319582938992 1.4758909364414672 -0.7976662974326221" />
         <geometry>
            <mesh filename="package://myohand_description/meshes/4proxph_left.stl" scale="1.0912156403965485 1.0912156403965485 1.0912156403965485" />
         </geometry>
         <material name="white" />
      </visual>
   </link>
   <link name="mcp4_flexion_dummy_left">
      <inertial>
         <origin xyz="1.734723475976807e-18 0.0 8.673617379884035e-19" rpy="0.0 1.120795862766868 0.0" />
         <mass value="0.001" />
         <inertia ixx="1e-09" iyy="1e-09" izz="1e-09" ixy="0" ixz="0" iyz="0" />
      </inertial>
   </link>
   <joint type="revolute" name="mcp4_flexion_left">
      <parent link="fourthmc_left" />
      <child link="mcp4_flexion_dummy_left" />
      <origin xyz="0.001996924621925684 -0.02584980730535384 -0.0001887803057886027" rpy="0.0 -1.1207958627668684 0.0" />
      <axis xyz="-7.907580905939781e-17 0.0 -1.0" />
      <limit lower="0.0" upper="1.5708" effort="100" velocity="100" />
   </joint>
   <joint type="revolute" name="mcp4_abduction_left">
      <parent link="mcp4_flexion_dummy_left" />
      <child link="proxph4_left" />
      <origin xyz="3.2959746043559337e-18 -1.3183898417423735e-17 1.5449880957918439e-19" rpy="-0.0 1.5707963267948961 0.0" />
      <axis xyz="4.994681042330142e-17 0.0 -1.0000000000000002" />
      <limit lower="-0.261799" upper="0.261799" effort="100" velocity="100" />
   </joint>
   <link name="midph4_left">
      <inertial>
         <origin xyz="0.0 2.7755575615628914e-17 1.734723475976807e-18" rpy="-5.8096713723763484e-33 1.1707966444174693 -6.285106853470097e-33" />
         <mass value="0.003" />
         <inertia ixx="0.0001" iyy="0.0001" izz="0.0001" ixy="0" ixz="0" iyz="0" />
      </inertial>
      <visual name="4midph_left">
         <origin xyz="0.0012854336845298405 -0.014311424955266315 -0.0013640544306725247" rpy="-1.624420311140701 0.00529879897844765 -3.0977891945924623" />
         <geometry>
            <mesh filename="package://myohand_description/meshes/4midph_left.stl" scale="1.0912156403965485 1.0912156403965485 1.0912156403965485" />
         </geometry>
         <material name="white" />
      </visual>
   </link>
   <joint type="revolute" name="pm4_flexion_left">
      <parent link="proxph4_left" />
      <child link="midph4_left" />
      <origin xyz="0.002828155363936046 -0.04392688560416305 0.002996108182399035" rpy="-3.141592653589793 -1.5207955451442956 -3.141592653589793" />
      <axis xyz="-1.228163387906391e-16 -2.5729218551481257e-33 -1.0000000000000002" />
      <limit lower="0.0" upper="1.5708" effort="100" velocity="100" />
   </joint>
   <link name="distph4_left">
      <inertial>
         <origin xyz="-3.469446951953614e-18 2.7755575615628914e-17 7.589415207398531e-18" rpy="9.507900496666728e-34 0.9707969349430008 -3.875608070853002e-33" />
         <mass value="0.002" />
         <inertia ixx="0.0001" iyy="0.0001" izz="0.0001" ixy="0" ixz="0" iyz="0" />
      </inertial>
      <visual name="4distph_left">
         <origin xyz="0.0013485345772644582 -0.009657786641601888 6.261121284748261e-05" rpy="-1.5832780312239771 0.030396363417948935 -2.9652765496152345" />
         <geometry>
            <mesh filename="package://myohand_description/meshes/4distph_left.stl" scale="1.0912156403965485 1.0912156403965485 1.0912156403965485" />
         </geometry>
         <material name="white" />
      </visual>
   </link>
   <joint type="revolute" name="md4_flexion_left">
      <parent link="midph4_left" />
      <child link="distph4_left" />
      <origin xyz="0.001550441772623424 -0.027050144509790056 -0.0020895210865746164" rpy="-4.462365316954919e-33 0.19999970947446855 -1.3781457552156878e-33" />
      <axis xyz="-5.254894459090136e-16 -3.28052241842023e-33 -1.0000000000000007" />
      <limit lower="0.0" upper="1.5708" effort="100" velocity="100" />
   </joint>
   <link name="fifthmc_left">
      <inertial>
         <origin xyz="0.0 0.0 0.0" rpy="0.0 0.0 0.0" />
         <mass value="0.02" />
         <inertia ixx="0.0001" iyy="0.0001" izz="0.0001" ixy="0" ixz="0" iyz="0" />
      </inertial>
      <visual name="5mc_left">
         <origin xyz="-0.00021243305008746238 0.00045668960348956494 -0.0001403838303151512" rpy="1.6537260233892073 1.161764483067726 0.20407074680325366" />
         <geometry>
            <mesh filename="package://myohand_description/meshes/5mc_left.stl" scale="1.0912156403965485 1.0912156403965485 1.0912156403965485" />
         </geometry>
         <material name="white" />
      </visual>
   </link>
   <joint type="fixed" name="capitate2fifthmc_fixed_left">
      <parent link="capitate_left" />
      <child link="fifthmc_left" />
      <origin xyz="0.023893257662122826 -0.03784663205587349 -0.004602747571192643" rpy="0.0 0.0 0.0" />
   </joint>
   <link name="proxph5_left">
      <inertial>
         <origin xyz="-3.469446951953614e-18 0.0 -5.204170427930421e-18" rpy="0.0 -0.599999391851897 0.0" />
         <mass value="0.005" />
         <inertia ixx="0.0001" iyy="0.0001" izz="0.0001" ixy="0" ixz="0" iyz="0" />
      </inertial>
      <visual name="5proxph_left">
         <origin xyz="0.0037130494653037876 -0.021083925719690318 0.0009617048071497659" rpy="-1.4569822139036388 1.3815149067226087 -2.8851965671744555" />
         <geometry>
            <mesh filename="package://myohand_description/meshes/5proxph_left.stl" scale="1.0912156403965485 1.0912156403965485 1.0912156403965485" />
         </geometry>
         <material name="white" />
      </visual>
   </link>
   <link name="mcp5_flexion_dummy_left">
      <inertial>
         <origin xyz="-3.469446951953614e-18 1.3877787807814457e-17 -2.6020852139652106e-18" rpy="0.0 0.9707969349430003 0.0" />
         <mass value="0.001" />
         <inertia ixx="1e-09" iyy="1e-09" izz="1e-09" ixy="0" ixz="0" iyz="0" />
      </inertial>
   </link>
   <joint type="revolute" name="mcp5_flexion_left">
      <parent link="fifthmc_left" />
      <child link="mcp5_flexion_dummy_left" />
      <origin xyz="0.0017426713777132878 -0.023385842389338427 -0.0016324585980332371" rpy="0.0 -0.9707969349430003 0.0" />
      <axis xyz="2.7011479700438378e-17 0.0 -1.0" />
      <limit lower="0.0" upper="1.5708" effort="100" velocity="100" />
   </joint>
   <joint type="revolute" name="mcp5_abduction_left">
      <parent link="mcp5_flexion_dummy_left" />
      <child link="proxph5_left" />
      <origin xyz="3.2959746043559337e-18 0.0 -1.6479873021779669e-18" rpy="-0.0 1.5707963267948966 0.0" />
      <axis xyz="1.804436795852415e-16 0.0 -1.0000000000000002" />
      <limit lower="-0.261799" upper="0.261799" effort="100" velocity="100" />
   </joint>
   <link name="midph5_left">
      <inertial>
         <origin xyz="-6.938893903907228e-18 1.3877787807814457e-17 -1.734723475976807e-18" rpy="0.0 0.9707969349430003 0.0" />
         <mass value="0.002" />
         <inertia ixx="0.0001" iyy="0.0001" izz="0.0001" ixy="0" ixz="0" iyz="0" />
      </inertial>
      <visual name="5midph_left">
         <origin xyz="-0.000209763230521209 -0.012844246409209248 -0.002279325925178824" rpy="-1.7327462170365329 -0.1431630889135289 -3.08764894477981" />
         <geometry>
            <mesh filename="package://myohand_description/meshes/5midph_left.stl" scale="1.0912156403965485 1.0912156403965485 1.0912156403965485" />
         </geometry>
         <material name="white" />
      </visual>
   </link>
   <joint type="revolute" name="pm5_flexion_left">
      <parent link="proxph5_left" />
      <child link="midph5_left" />
      <origin xyz="0.006528255140883938 -0.03880690181942246 0.0006597519698786732" rpy="0.0 -1.5707963267948961 0.0" />
      <axis xyz="1.019142349991081e-16 0.0 -1.0000000000000004" />
      <limit lower="0.0" upper="1.5708" effort="100" velocity="100" />
   </joint>
   <link name="distph5_left">
      <inertial>
         <origin xyz="1.0408340855860843e-17 0.0 5.204170427930421e-18" rpy="-0.30068756862856233 0.6985554313998295 -0.11023436132302195" />
         <mass value="0.001" />
         <inertia ixx="0.0001" iyy="0.0001" izz="0.0001" ixy="0" ixz="0" iyz="0" />
      </inertial>
      <visual name="5distph_left">
         <origin xyz="0.0011069679115155535 -0.008597030397592735 0.00048825809364410336" rpy="-1.5131584280044281 0.07399081576380362 -2.9725845702930727" />
         <geometry>
            <mesh filename="package://myohand_description/meshes/5distph_left.stl" scale="1.0912156403965485 1.0912156403965485 1.0912156403965485" />
         </geometry>
         <material name="white" />
      </visual>
   </link>
   <joint type="revolute" name="md5_flexion_left">
      <parent link="midph5_left" />
      <child link="distph5_left" />
      <origin xyz="-0.00025113395451318833 -0.02256306579647942 -0.003967694418063878" rpy="0.20638367854381948 0.2682608800927275 -0.08747994233519726" />
      <axis xyz="-3.067053893791756e-16 3.6436868920186926e-17 -1.0000000000000002" />
      <limit lower="0.0" upper="1.5708" effort="100" velocity="100" />
   </joint>
   <link name="THtip_left">
      <inertial>
         <origin xyz="-1.3877787807814457e-17 0.0 0.0" rpy="-8.981636647091639e-18 0.0 9.901469019638499e-18" />
         <mass value="0.001" />
         <inertia ixx="1e-09" iyy="1e-09" izz="1e-09" ixy="0" ixz="0" iyz="0" />
      </inertial>
   </link>
   <joint type="fixed" name="THtip_joint_left">
      <parent link="distal_thumb_left" />
      <child link="THtip_left" />
      <origin xyz="-0.010739724593419112 -0.02347499067048486 0.002273107196620625" rpy="-0.5009125402511723 -0.05012299056598346 0.012825373716091937" />
   </joint>
   <link name="IFtip_left">
      <inertial>
         <origin xyz="-3.469446951953614e-18 0.0 0.0" rpy="1.9842975991750576e-18 0.0 -4.128063011068848e-20" />
         <mass value="0.001" />
         <inertia ixx="1e-09" iyy="1e-09" izz="1e-09" ixy="0" ixz="0" iyz="0" />
      </inertial>
   </link>
   <joint type="fixed" name="IFtip_joint_left">
      <parent link="distph2_left" />
      <child link="IFtip_left" />
      <origin xyz="-0.0019728713900546246 -0.01966290765004393 0.0002106120738485518" rpy="1.5707963267948983 1.4707963268582902 1.4707963268582915" />
   </joint>
   <link name="MFtip_left">
      <inertial>
         <origin xyz="0.0 0.0 0.0" rpy="0.0 0.0 0.0" />
         <mass value="0.001" />
         <inertia ixx="1e-09" iyy="1e-09" izz="1e-09" ixy="0" ixz="0" iyz="0" />
      </inertial>
   </link>
   <joint type="fixed" name="MFtip_joint_left">
      <parent link="distph3_left" />
      <child link="MFtip_left" />
      <origin xyz="-0.0021824312807930974 -0.02073309716753441 -0.0010912156403965478" rpy="0.0 0.0 0.0" />
   </joint>
   <link name="RFtip_left">
      <inertial>
         <origin xyz="0.0 0.0 0.0" rpy="0.0 0.0 1.7105694144590052e-49" />
         <mass value="0.001" />
         <inertia ixx="1e-09" iyy="1e-09" izz="1e-09" ixy="0" ixz="0" iyz="0" />
      </inertial>
   </link>
   <joint type="fixed" name="RFtip_joint_left">
      <parent link="distph4_left" />
      <child link="RFtip_left" />
      <origin xyz="0.0015167656567649432 -0.01964188152713786 -0.0002844733557830925" rpy="9.507900496666728e-34 0.9707969349430008 -3.875608070853002e-33" />
   </joint>
   <link name="LFtip_left">
      <inertial>
         <origin xyz="0.0 2.7755575615628914e-17 -3.469446951953614e-18" rpy="-2.3461332654756542e-17 0.0 -2.9436483604948474e-18" />
         <mass value="0.001" />
         <inertia ixx="1e-09" iyy="1e-09" izz="1e-09" ixy="0" ixz="0" iyz="0" />
      </inertial>
   </link>
   <joint type="fixed" name="LFtip_joint_left">
      <parent link="distph5_left" />
      <child link="LFtip_left" />
      <origin xyz="0.00028800192051641827 -0.01883393238545958 0.00111120042012431" rpy="-0.30068756862856233 0.6985554313998295 -0.11023436132302195" />
   </joint>
</robot>
